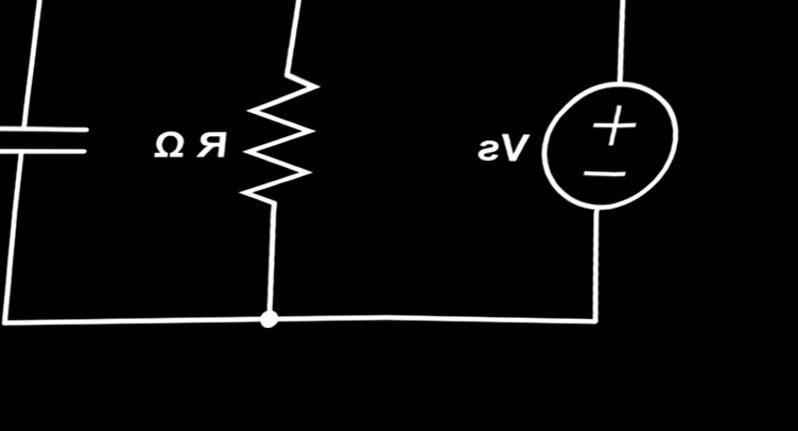Battery: (520, 67, 689, 214)
